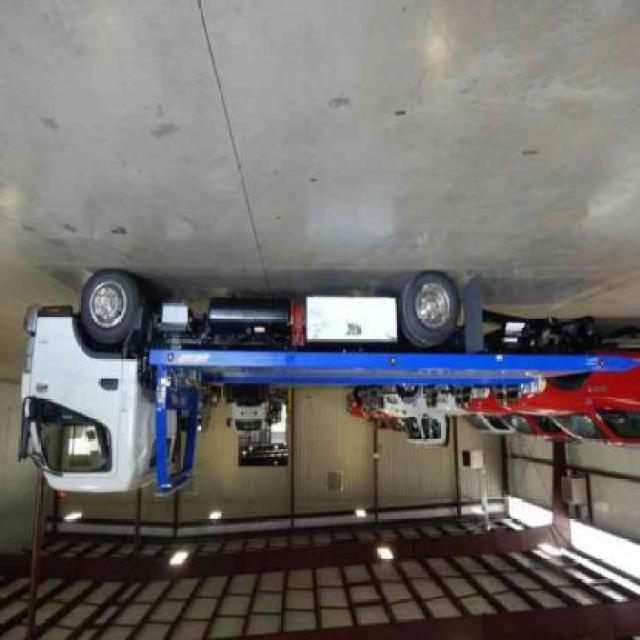truck: (14, 273, 640, 496)
